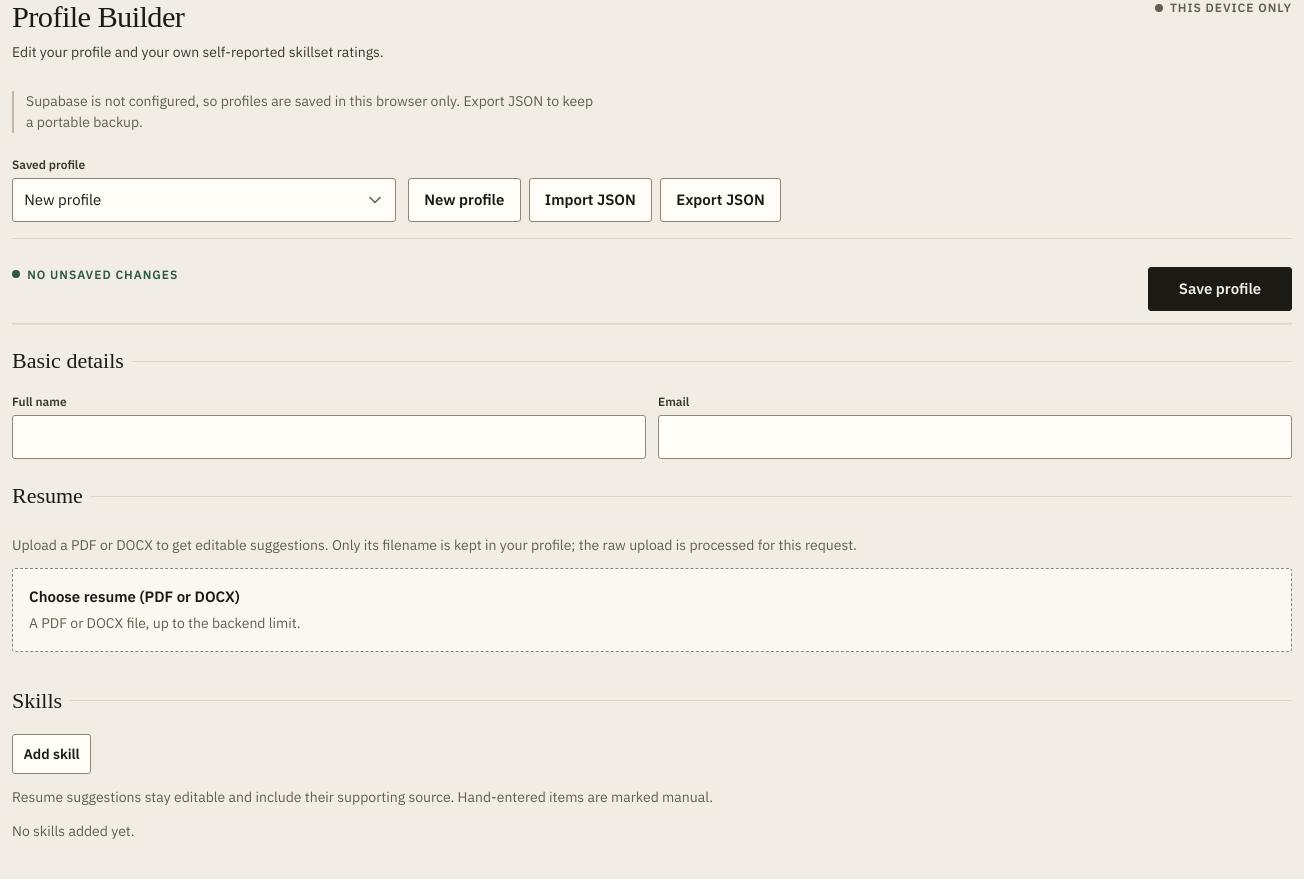
Test case: Profile Builder › requires incomplete profile rows to be filled or removed before saving
Type "Ada Lovelace" into the field labelled "Full name" at (329, 437), box [12,415,646,459]
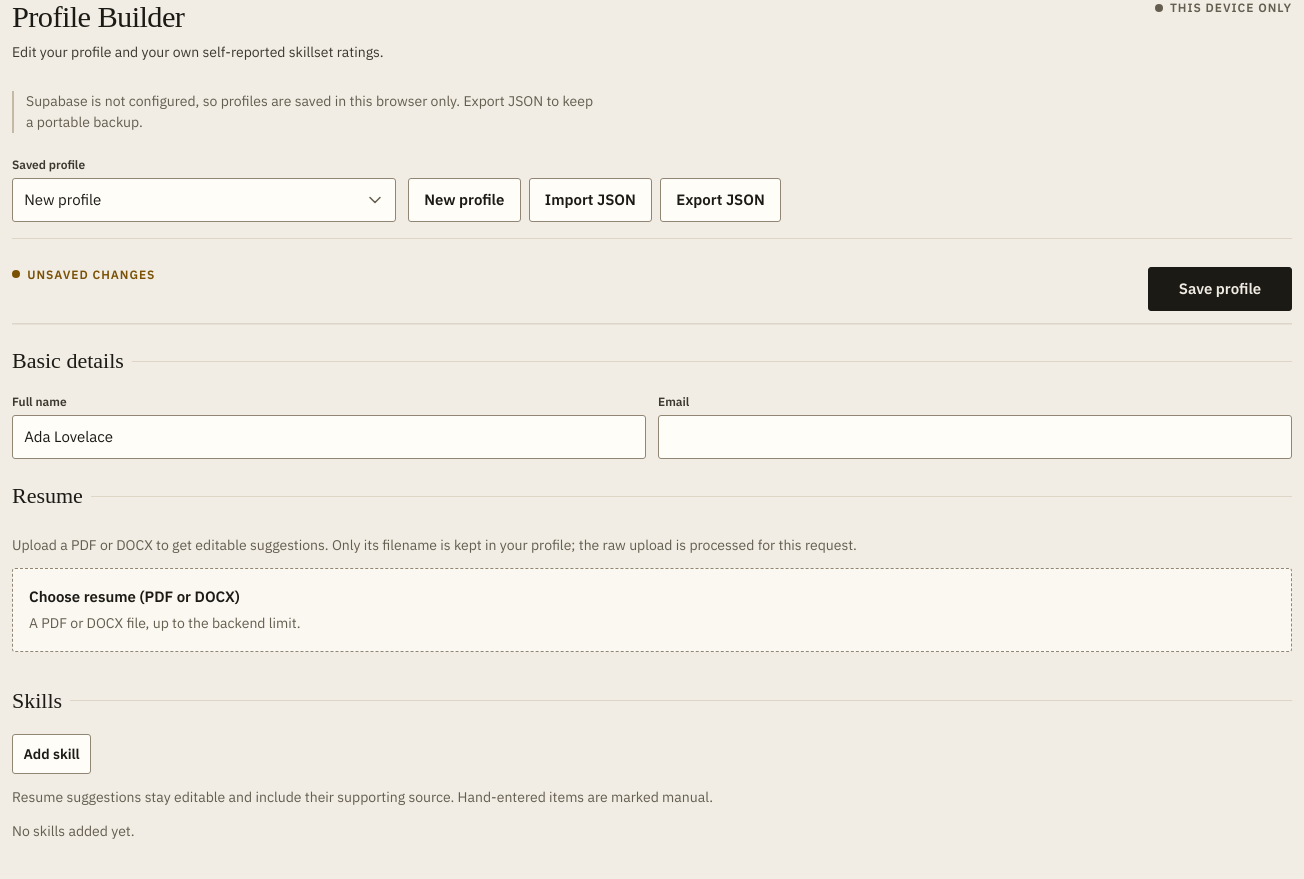
Type "ada@example.com" into the field labelled "Email" at (975, 437), box [658,415,1292,459]
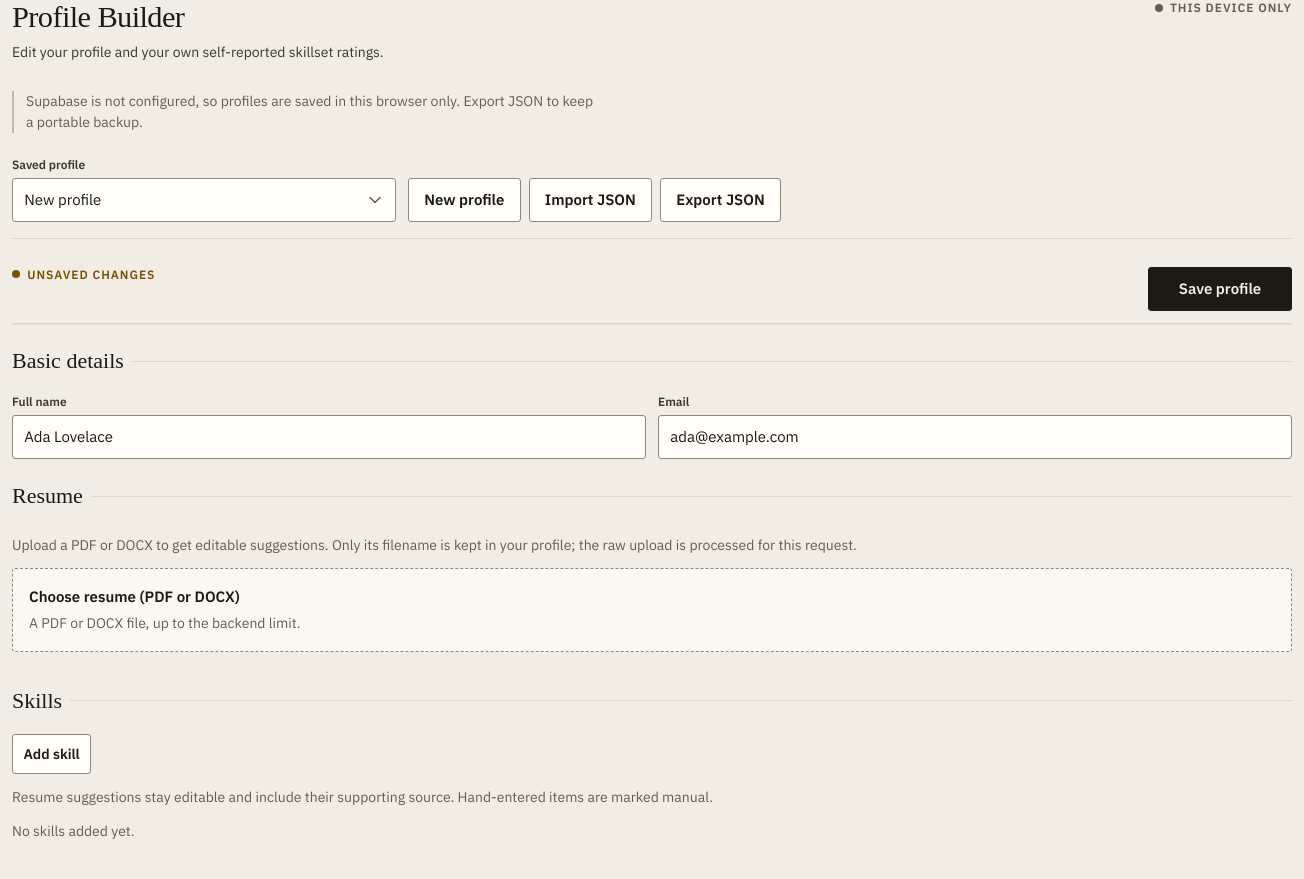
Click the button "Add skill" at (52, 754), box [12,734,91,774]
(page scrolled)
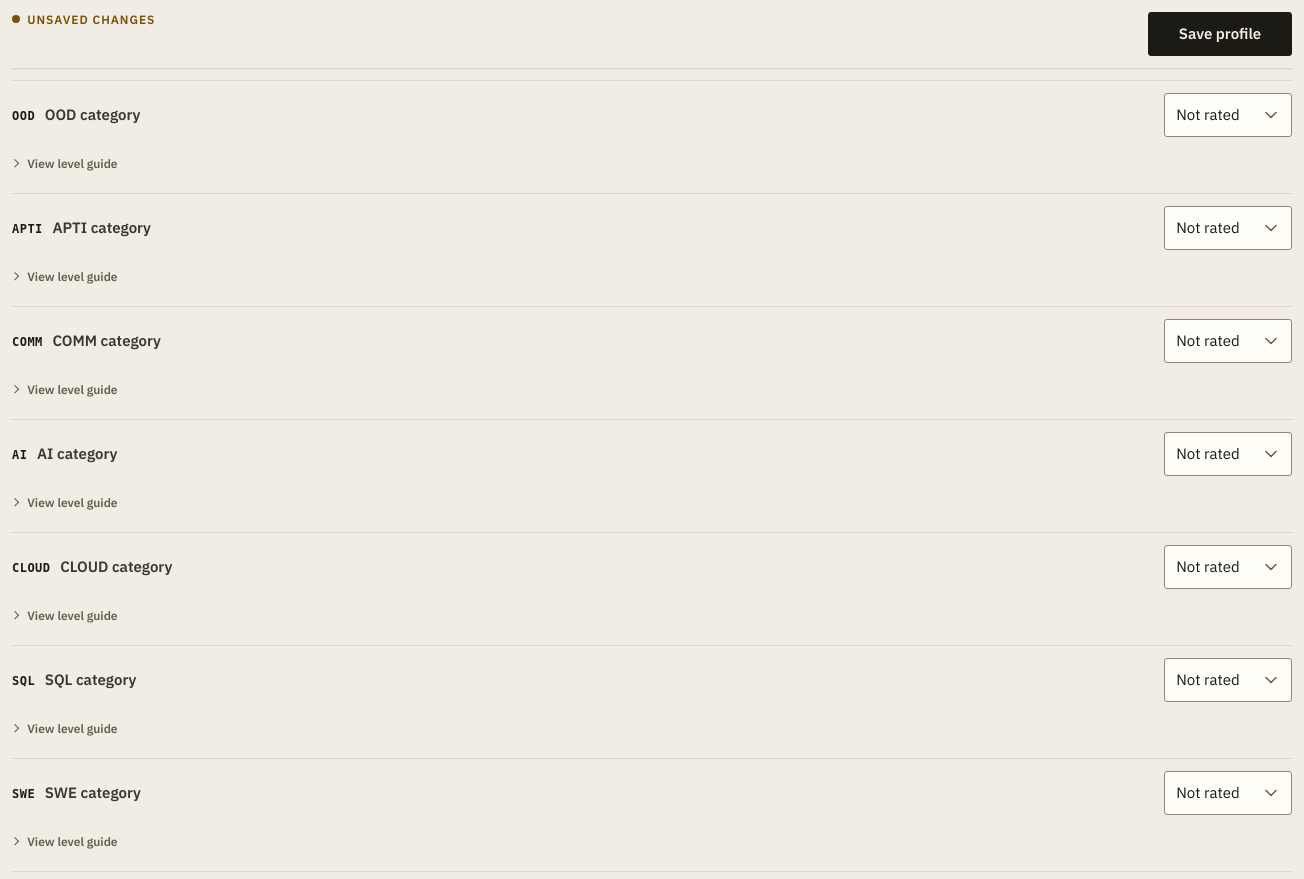
Submit the form labelled "Full name"
(page scrolled)
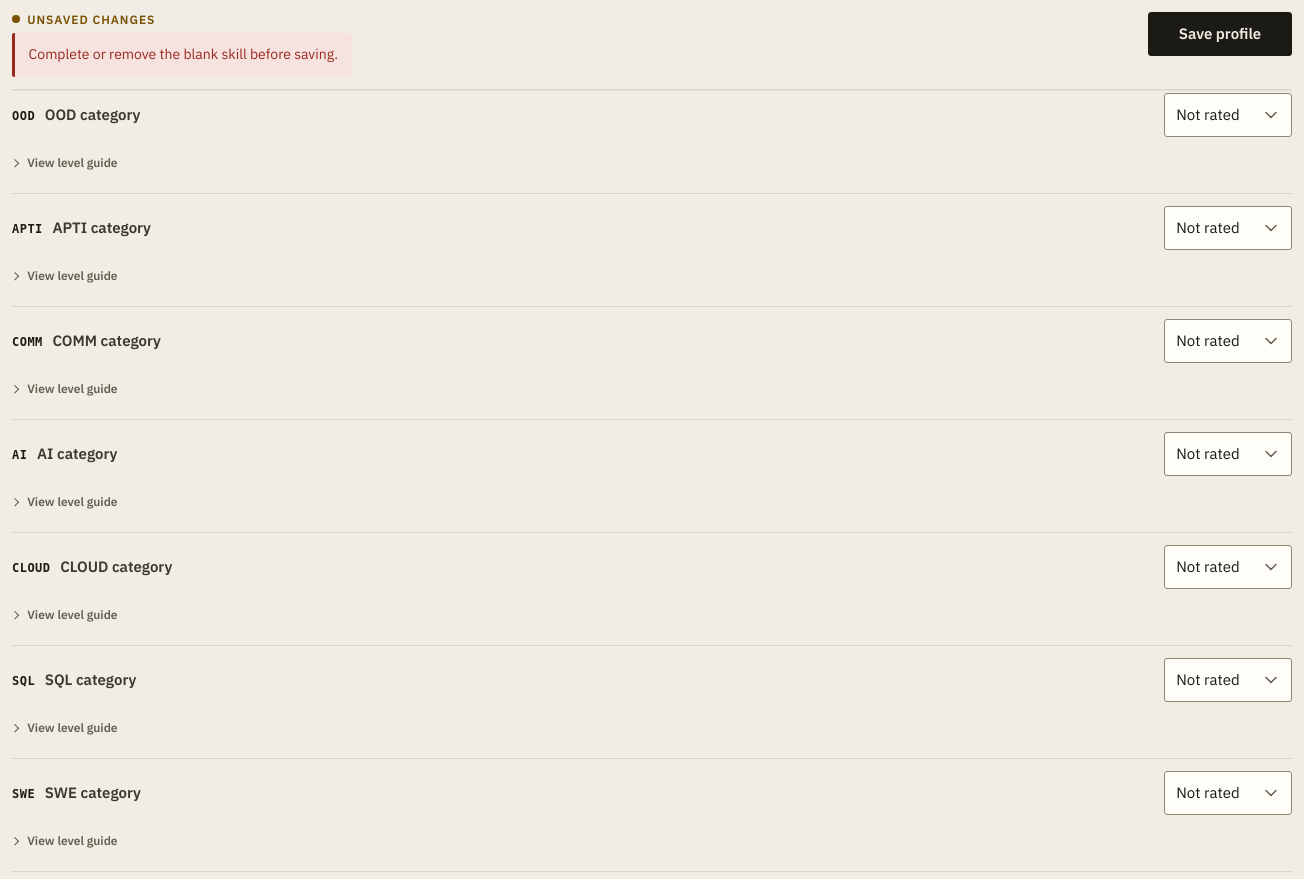
Now the message shows "Complete or remove the blank skill", box [29,46,338,64]
